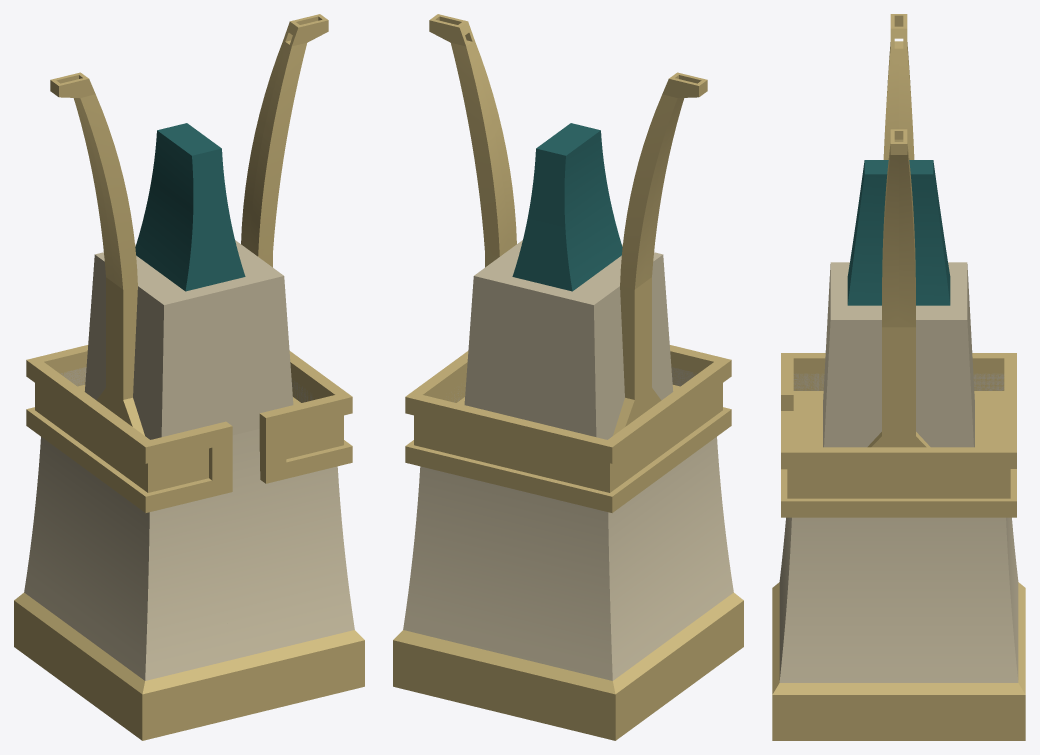
File: kuszowieza.fbx
3 renders of one model, left to right at view 1: azimuth 30°, elevation 25°; view 2: azimuth 150°, elevation 25°; view 3: azimuth 270°, elevation 25°, orthographic.
Parts seen in each view (by area): view 1: Component_3_1, Component_5_1, Component_4_1, Component_1_1, Component_6_1, Component_7_2, Component_7_1, Component_2_1; view 2: Component_3_1, Component_4_1, Component_5_1, Component_1_1, Component_6_1, Component_7_2, Component_7_1, Component_2_1; view 3: Component_3_1, Component_4_1, Component_5_1, Component_1_1, Component_7_1, Component_6_1, Component_2_1, Component_7_2.
Part boxes in pixels (x1,y1,x2,y2): Component_3_1: (24,367,354,680); Component_5_1: (84,240,293,439); Component_4_1: (26,345,352,512); Component_1_1: (14,600,364,740); Component_6_1: (135,123,245,291); Component_7_2: (50,72,144,435); Component_7_1: (241,14,328,267); Component_2_1: (14,592,364,694); Component_3_1: (403,367,733,680); Component_4_1: (405,345,731,512); Component_5_1: (464,240,673,439); Component_1_1: (393,600,743,740); Component_6_1: (512,123,622,291); Component_7_2: (613,72,707,435); Component_7_1: (429,14,516,267); Component_2_1: (393,592,743,694); Component_3_1: (779,373,1018,682); Component_4_1: (781,353,1016,517); Component_5_1: (823,262,974,447); Component_1_1: (772,695,1025,740); Component_7_1: (867,129,930,447); Component_6_1: (847,160,950,305); Component_2_1: (772,582,1025,694); Component_7_2: (883,14,914,159).
Bounding box in the file's own units: 9.1 × 19.87 × 7.5.
